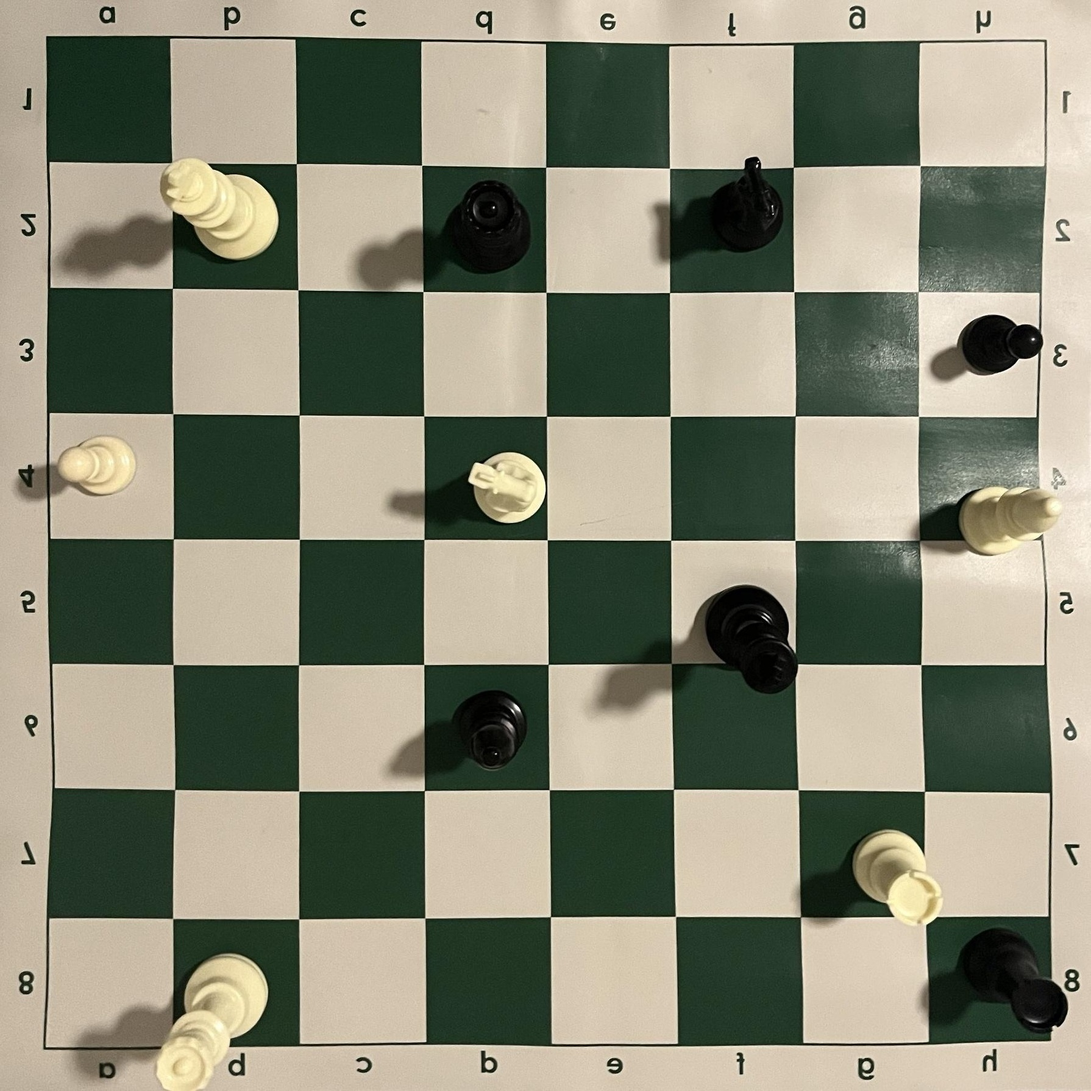black_bishop: (453, 689, 528, 773)
black_king: (703, 584, 798, 695)
black_knight: (706, 156, 785, 254)
black_pawn: (958, 315, 1045, 376)
black_queen: (450, 179, 533, 274)
black_rook: (956, 928, 1069, 1035)
white_bishop: (958, 485, 1063, 556)
white_king: (159, 157, 280, 261)
white_knight: (468, 451, 546, 524)
white_pawn: (55, 435, 137, 499)
white_queen: (154, 953, 269, 1091)
white_rook: (850, 828, 944, 928)
